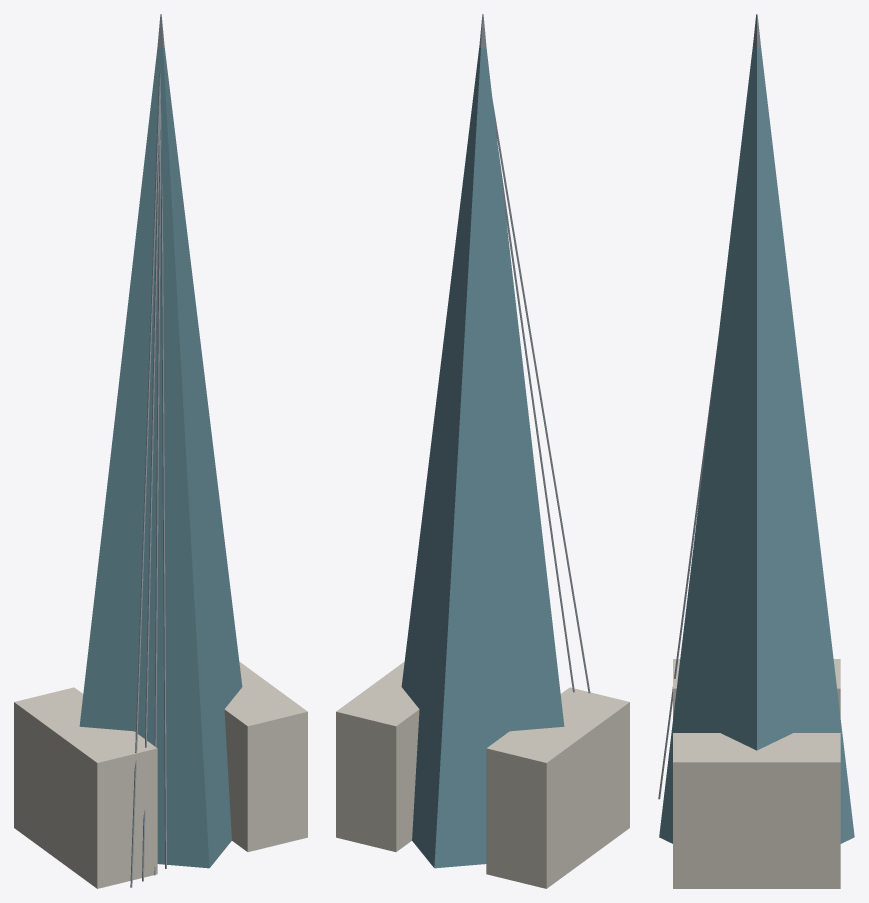
The model's file is source.glb.
The picture shows the model from 3 angles, left to right: view 1: azimuth 30°, elevation 25°; view 2: azimuth 150°, elevation 25°; view 3: azimuth 270°, elevation 25°; orthographic projection.
Parts seen in each view (by area): view 1: worldgen; view 2: worldgen; view 3: worldgen.
Boxes of the visible parts, x1=… form: worldgen: x1=14, y1=14, x2=307, y2=888; worldgen: x1=336, y1=14, x2=629, y2=888; worldgen: x1=658, y1=14, x2=854, y2=888.
Bounding box in the file's own units: 70 × 260 × 56.24.
